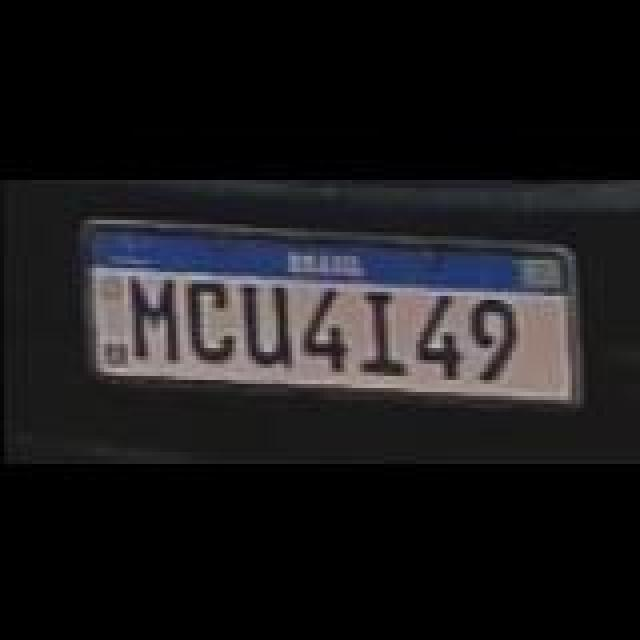4: (408, 294, 468, 378), (298, 286, 354, 370)
9: (466, 294, 522, 378)
C: (180, 278, 240, 362)
I: (358, 290, 406, 374)
M: (126, 272, 190, 360)
U: (240, 282, 300, 366)
